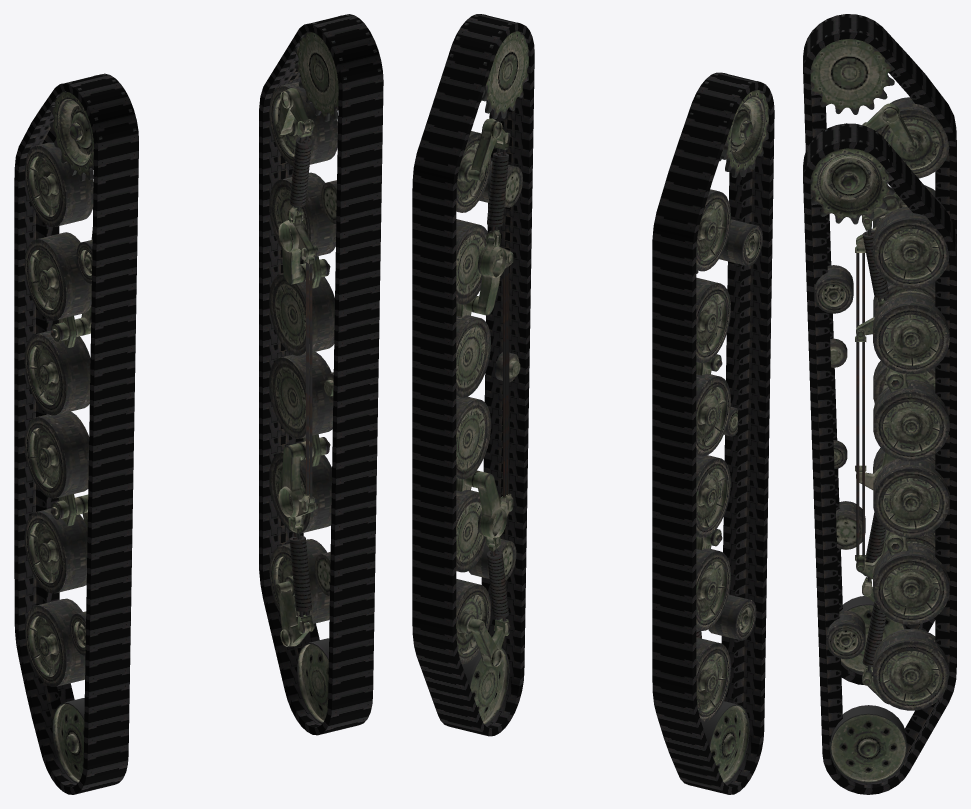
File: Chassis.glb
3 views of the same model, side by side, from view 1: azimuth 30°, elevation 25°; view 2: azimuth 150°, elevation 25°; view 3: azimuth 270°, elevation 25° (orthographic). The views are drawn at different scales.
Parts seen in each view (by area): view 1: set_0_group_0, set_1_group_0, set_3_group_0, set_2_group_0; view 2: set_0_group_0, set_1_group_0, set_3_group_0, set_2_group_0; view 3: set_3_group_0, set_1_group_0, set_2_group_0, set_0_group_0.
Boxes of the visible parts, x1,y1,x2,y2 form: set_0_group_0: (14, 73, 138, 794); set_1_group_0: (259, 14, 383, 735); set_3_group_0: (269, 14, 380, 723); set_2_group_0: (24, 74, 136, 783); set_0_group_0: (652, 72, 774, 794); set_1_group_0: (412, 14, 534, 736); set_3_group_0: (450, 14, 528, 725); set_2_group_0: (690, 73, 768, 783); set_3_group_0: (804, 124, 949, 783); set_1_group_0: (803, 123, 956, 794); set_2_group_0: (804, 14, 949, 673); set_0_group_0: (803, 14, 956, 684).
Bounding box in the file's own units: 2.34 × 5.48 × 1.17.
Materials: 4 (4 with a texture image).
